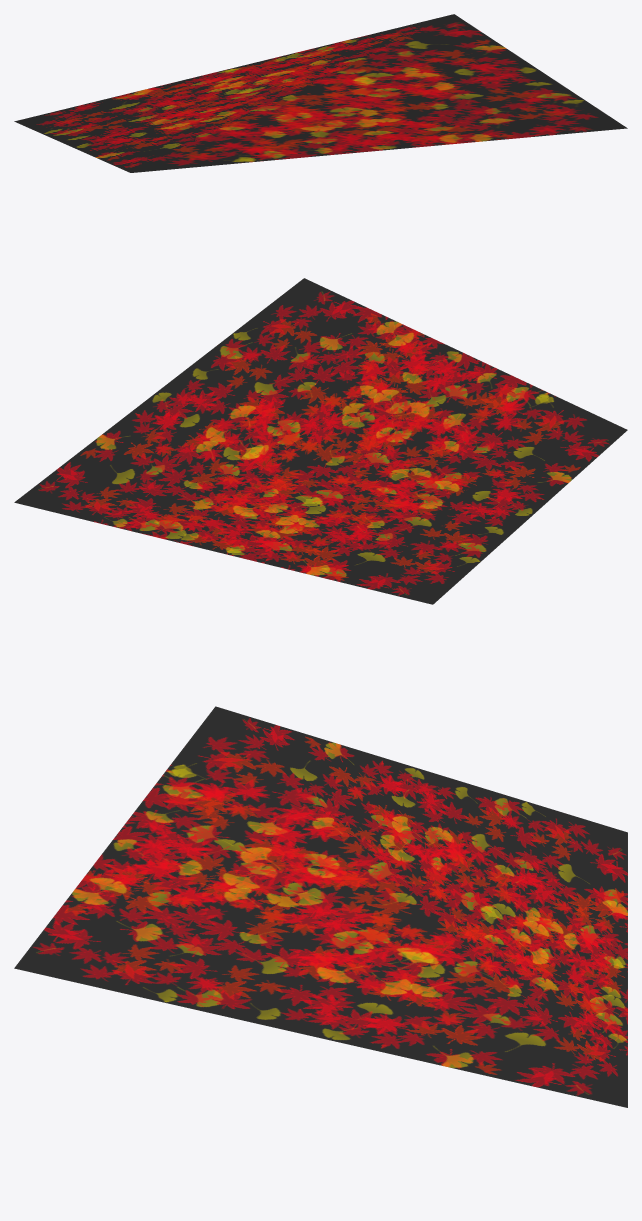
The model's file is OBJ_CourseAki_CurveFloor_4_5.fbx.
3 renders of one model, top to bottom at view 1: azimuth 30°, elevation 25°; view 2: azimuth 150°, elevation 25°; view 3: azimuth 270°, elevation 25°, orthographic. The views are drawn at different scales.
Visible parts, largest first — view 1: polySurface263; view 2: polySurface263; view 3: polySurface263.
Part boxes in pixels (bbox=[...]): polySurface263: bbox=[14, 14, 627, 172]; polySurface263: bbox=[14, 278, 627, 604]; polySurface263: bbox=[14, 706, 627, 1107].
Bounding box in the file's own units: 6.6 × 2 × 5.65.
1 material, 1 textured.
